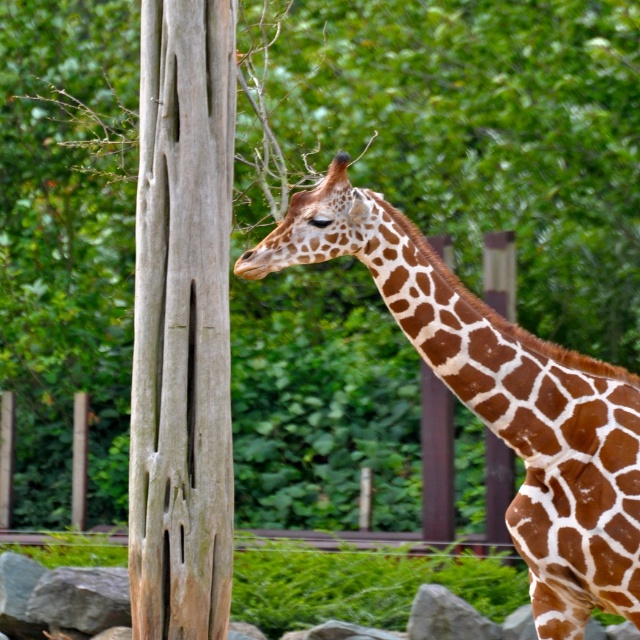Giraffe: (232, 149, 640, 640)
